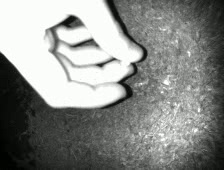corn: (119, 59, 132, 68)
